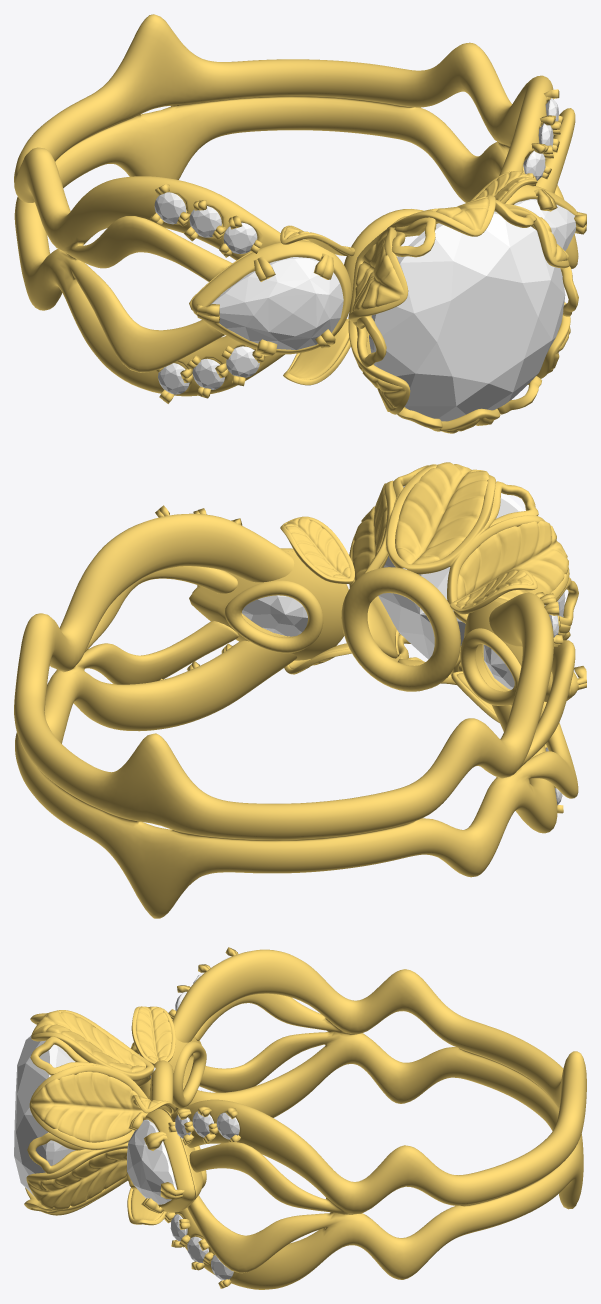
File: ring.glb
3 renders of one model, top to bottom at view 1: azimuth 30°, elevation 25°; view 2: azimuth 150°, elevation 25°; view 3: azimuth 270°, elevation 25°, orthographic. The views are drawn at different scales.
Parts seen in each view (by area): view 1: Circle.001, dobj.011, dobj.010, _BézierCurve, Plane.020, BézierCurve.007, _BézierCurve.006, Plane.013, Plane.016, Plane.018, dobj.009, dobj.008 (+3 smaller); view 2: Circle.001, Plane.020, Torus.003, Torus.002, BézierCurve.004, _BézierCurve, Plane.016, dobj.011, BézierCurve.001, dobj.010, BézierCurve.007, Plane.013; view 3: Circle.001, Plane.020, _BézierCurve, dobj.011, dobj.010, Plane.016, BézierCurve.007, _BézierCurve.006, Plane.013, Torus.002, BézierCurve.001, Plane.018 (+5 smaller).
Part boxes in pixels (x1,y1,x2,y2): Circle.001: (14,14,578,396); dobj.011: (369,211,565,421); dobj.010: (210,199,576,349); _BézierCurve: (348,195,570,431); Plane.020: (352,196,570,433); BézierCurve.007: (353,199,578,431); _BézierCurve.006: (191,185,577,354); Plane.013: (149,89,563,403); Plane.016: (284,171,532,379); Plane.018: (197,189,586,356); dobj.009: (223,150,545,377); dobj.008: (189,123,553,389); Circle.001: (14,513,578,918); Plane.020: (352,462,570,671); Torus.003: (341,567,460,691); Torus.002: (224,580,521,705); BézierCurve.004: (189,551,571,705); _BézierCurve: (349,464,570,684); Plane.016: (284,517,532,713); dobj.011: (378,485,565,659); BézierCurve.001: (280,516,537,722); dobj.010: (242,595,578,689); BézierCurve.007: (393,464,578,661); Plane.013: (155,505,563,813); Circle.001: (171,949,586,1289); Plane.020: (27,1010,145,1209); _BézierCurve: (25,1010,154,1215); dobj.011: (14,1035,75,1196); dobj.010: (127,1054,177,1204); Plane.016: (131,1006,171,1225); BézierCurve.007: (24,1012,96,1213); _BézierCurve.006: (140,1020,194,1212); Plane.013: (164,947,240,1288); Torus.002: (173,1041,206,1188); BézierCurve.001: (127,1006,175,1225); Plane.018: (126,1042,184,1213).
Bounding box in the file's own units: 0.0198 × 0.00907 × 0.025.
